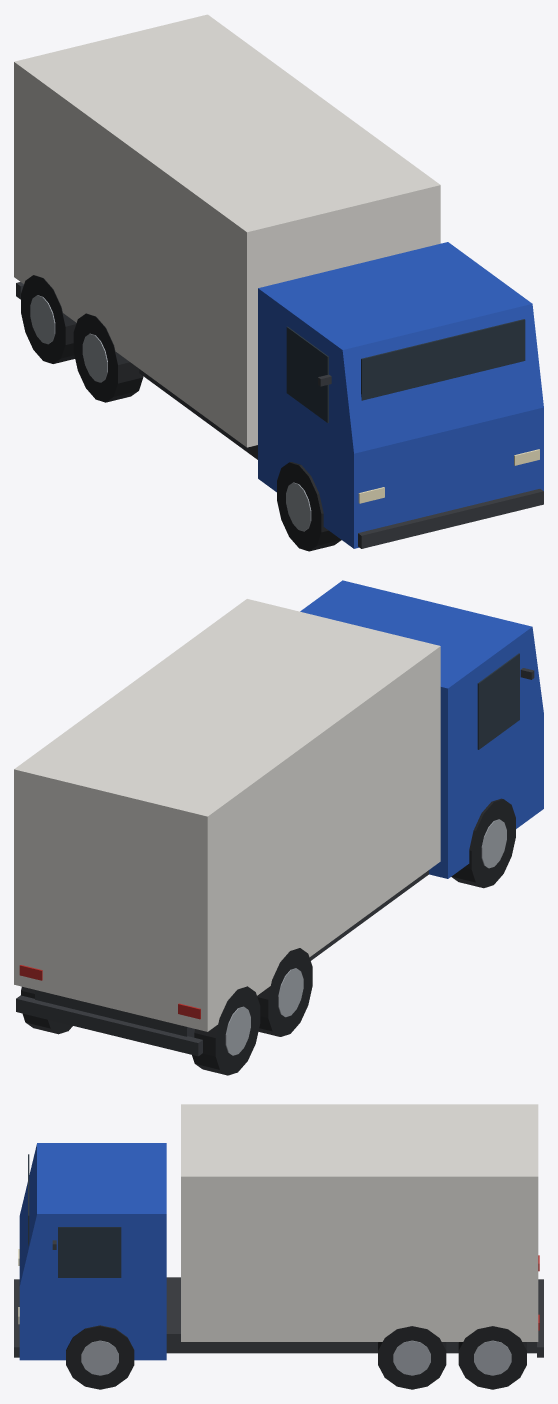
File: box_truck.glb
3 renders of one model, top to bottom at view 1: azimuth 30°, elevation 25°; view 2: azimuth 150°, elevation 25°; view 3: azimuth 270°, elevation 25°, orthographic. The views are drawn at different scales.
Parts seen in each view (by area): view 1: Body, Wheel_MR, Wheel_FR, Wheel_RR; view 2: Body, Wheel_RR, Wheel_FR, Wheel_MR, Wheel_RL; view 3: Body, Wheel_FL, Wheel_RL, Wheel_ML.
Boxes of the visible parts, box(x1,y1,x2,y2) form: Body: box(14, 14, 543, 548); Wheel_MR: box(73, 313, 143, 402); Wheel_FR: box(277, 462, 341, 551); Wheel_RR: box(21, 275, 76, 363); Body: box(14, 580, 543, 1056); Wheel_RR: box(192, 986, 260, 1075); Wheel_FR: box(451, 798, 515, 888); Wheel_MR: box(257, 948, 312, 1036); Wheel_RL: box(21, 986, 72, 1034); Body: box(14, 1104, 543, 1360); Wheel_FL: box(66, 1325, 134, 1389); Wheel_RL: box(458, 1326, 526, 1389); Wheel_ML: box(378, 1326, 446, 1389).
Size of the model in its own units: 2.7 by 3.35 by 7.56.
